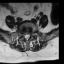CCS_normal: (26, 32, 27, 42)
LFS_severe_stenosis: (29, 31, 32, 38)
LLS_normal: (27, 32, 30, 40)
RFS_normal: (21, 31, 23, 38)
RLS_normal: (23, 32, 26, 40)
